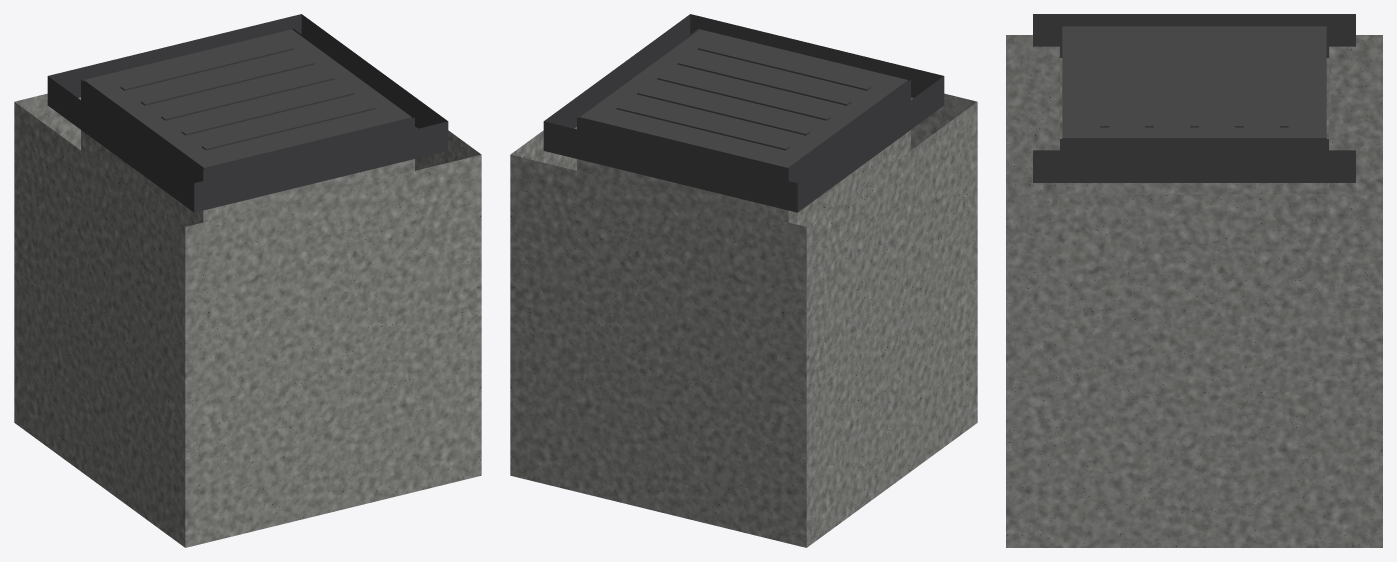
The picture shows the model from 3 angles, left to right: view 1: azimuth 30°, elevation 25°; view 2: azimuth 150°, elevation 25°; view 3: azimuth 270°, elevation 25°; orthographic projection. The views are drawn at different scales.
Visible parts, largest first — view 1: coverLevelOffset=0;coverMaterial=cast_iron;coverShape=square (×2); view 2: coverLevelOffset=0;coverMaterial=cast_iron;coverShape=square (×2); view 3: coverLevelOffset=0;coverMaterial=cast_iron;coverShape=square (×2).
Part boxes in pixels (box(x1,y1,x2,y2)): coverLevelOffset=0;coverMaterial=cast_iron;coverShape=square (×2): box(14, 14, 481, 547); coverLevelOffset=0;coverMaterial=cast_iron;coverShape=square (×2): box(510, 14, 977, 547); coverLevelOffset=0;coverMaterial=cast_iron;coverShape=square (×2): box(1006, 14, 1382, 547).
Bounding box in the file's own units: 0.84 × 0.84 × 0.954.
Materials: 3 (1 with a texture image).
